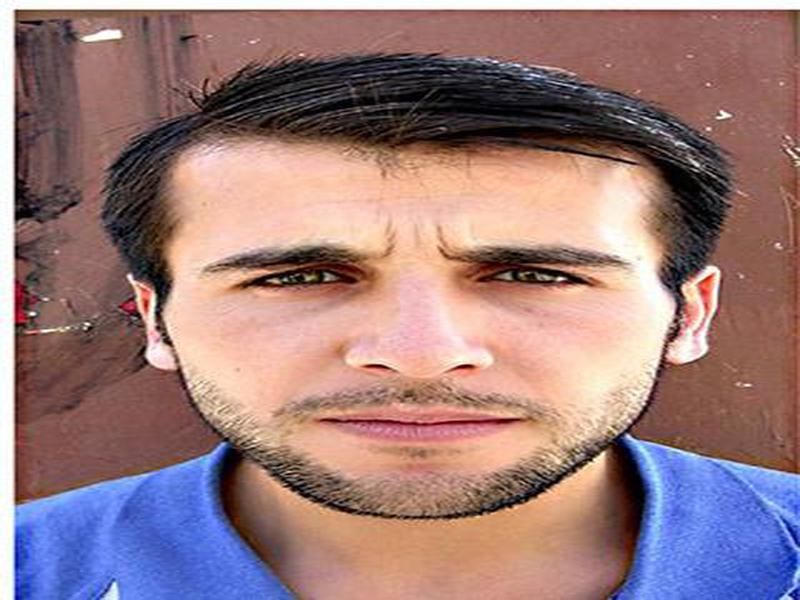without_mask: (182, 146, 670, 516)
